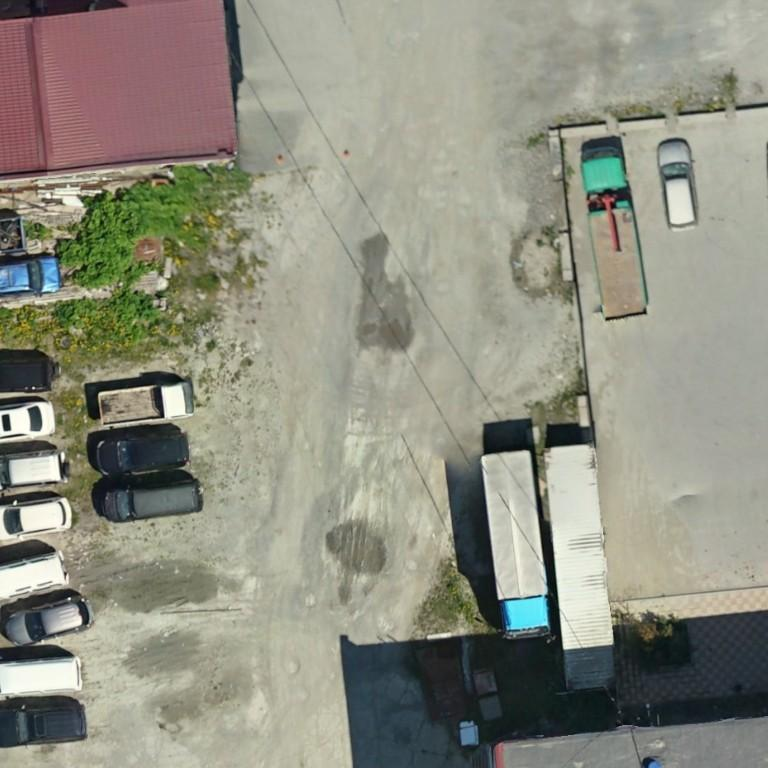hogweed: (56, 182, 196, 284), (108, 291, 156, 339), (55, 305, 82, 327)
